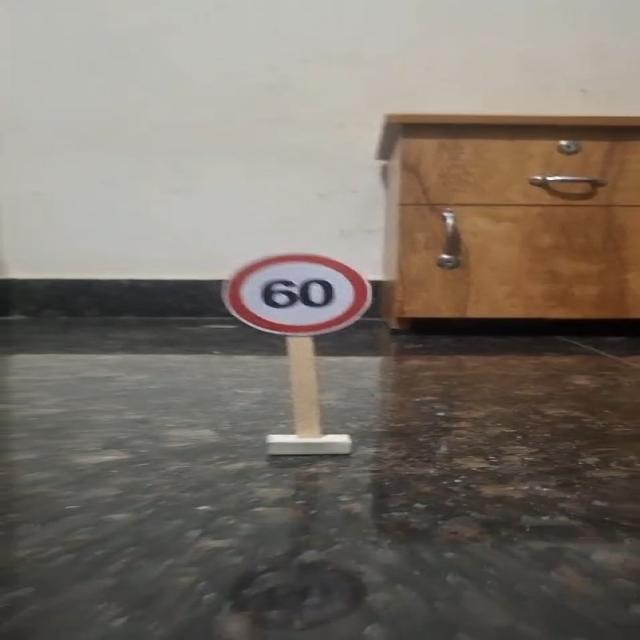Speed60: (217, 250, 375, 339)
